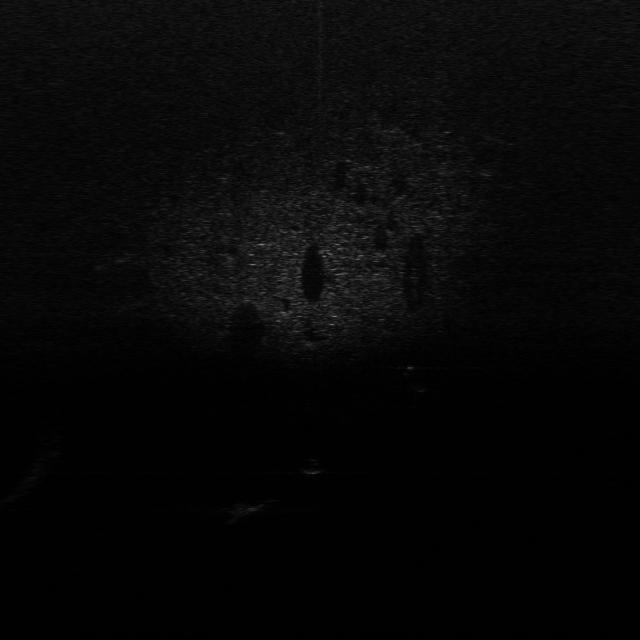ball: (294, 453, 334, 480)
square cage: (220, 495, 278, 519)
tyre: (400, 361, 430, 395)
